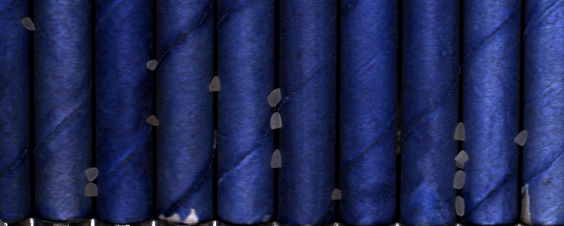broken_grain: (265, 86, 284, 109), (451, 120, 468, 142), (453, 148, 470, 169), (270, 145, 282, 173), (269, 111, 284, 133), (452, 168, 466, 191), (513, 128, 529, 147), (208, 74, 222, 94), (21, 16, 37, 33), (84, 180, 100, 197), (84, 165, 99, 183), (145, 57, 159, 72), (329, 187, 342, 201)
complete_grain: (454, 195, 467, 219)
yellow_grain: (145, 113, 162, 128)
